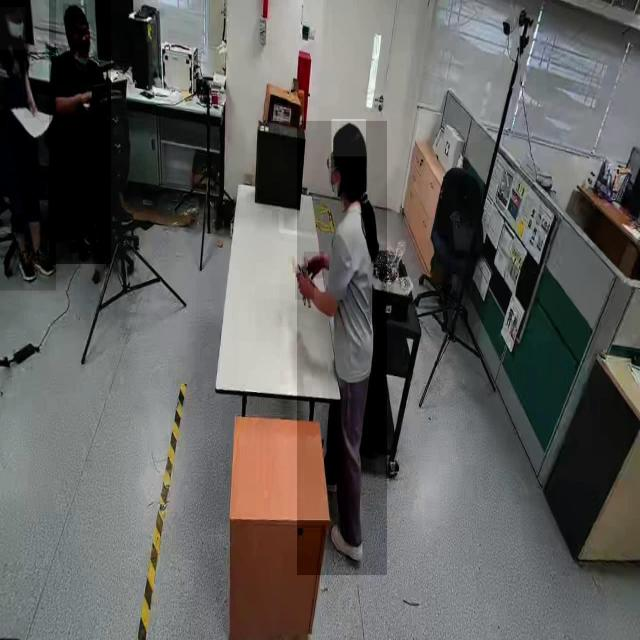face_mask: (0, 7, 26, 51)
face_nomask: (68, 22, 90, 59)
hand_noglove: (295, 266, 315, 300), (304, 252, 324, 279), (24, 92, 38, 119)
head_nohelmet: (332, 119, 366, 157), (63, 4, 87, 20)
person: (297, 121, 387, 576), (49, 0, 111, 265), (0, 0, 56, 291)
shoes: (327, 517, 373, 567), (29, 238, 61, 283), (17, 243, 39, 284)
